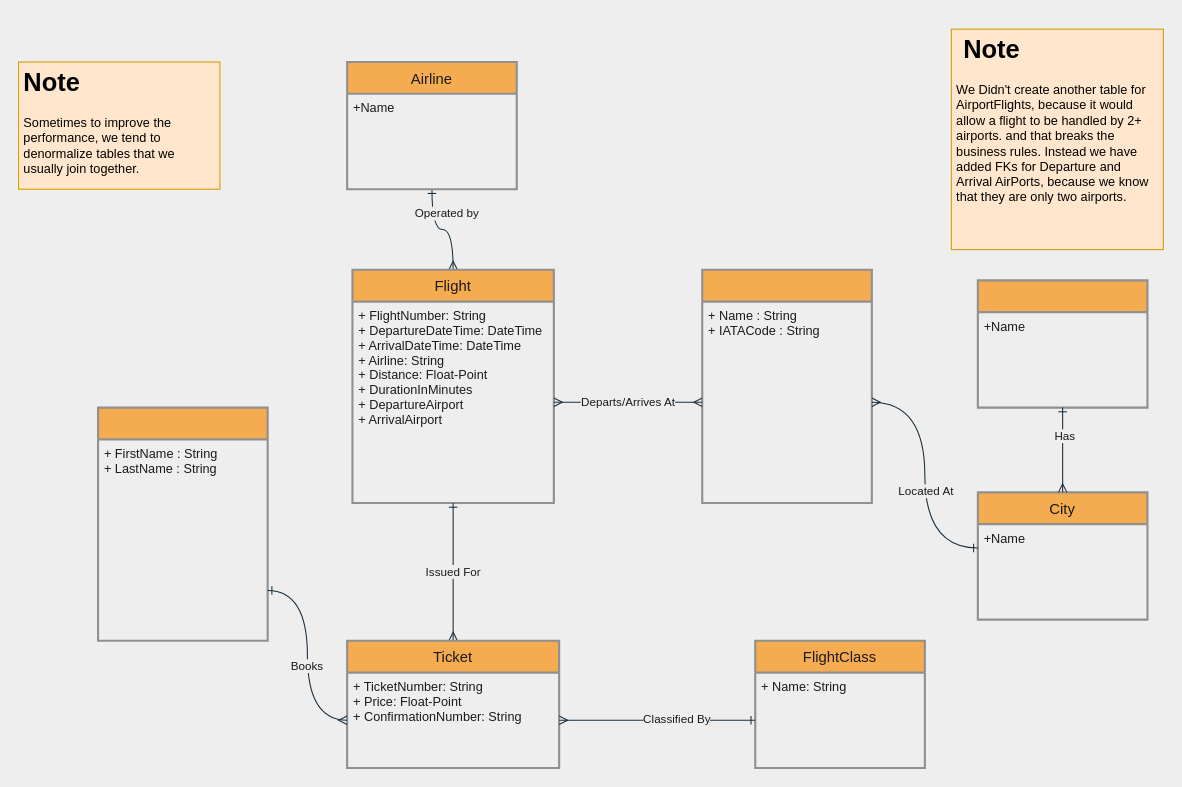
Some shapes in this 1182 by 787 pixel diagram are drawn without their labels. The box of each missing label's shape, as (x1, y1, x2, y2) in pixels:
Airport: (701, 268, 872, 504)
Passenger: (96, 406, 268, 641)
State: (976, 279, 1148, 408)
